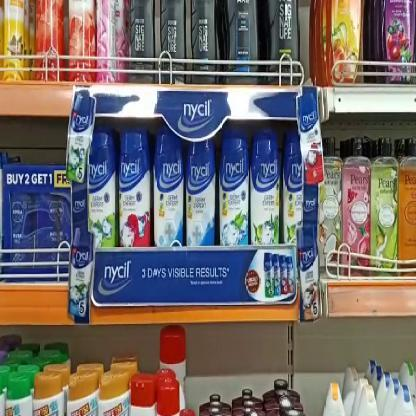Nycil Prickly Heat Powder: (250, 132, 280, 250), (120, 130, 151, 242), (219, 132, 249, 247)
